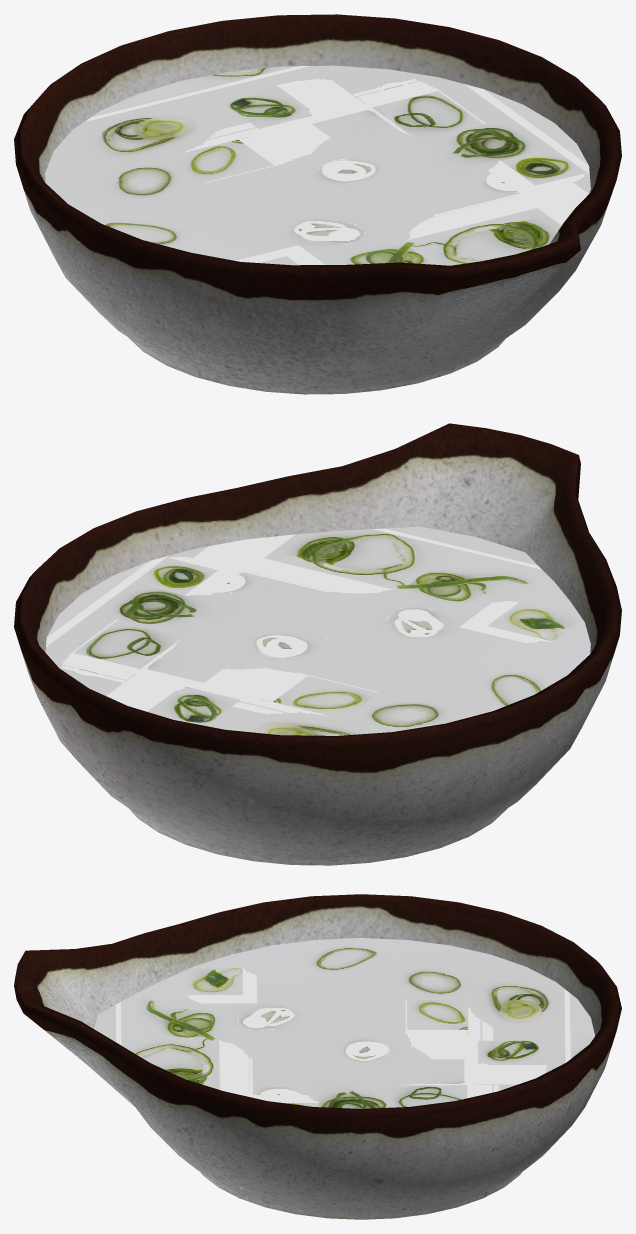
File: sara07C.fbx
The picture shows the model from 3 angles, top to bottom: view 1: azimuth 30°, elevation 25°; view 2: azimuth 150°, elevation 25°; view 3: azimuth 270°, elevation 25°; orthographic projection. The views are drawn at different scales.
Parts seen in each view (by area): view 1: sara07C; view 2: sara07C; view 3: sara07C.
Boxes of the visible parts, <box> form: sara07C: <box>14,14,621,394</box>; sara07C: <box>14,423,621,865</box>; sara07C: <box>14,894,621,1219</box>.
Size of the model in its own units: 9.87 by 3.63 by 11.51.
